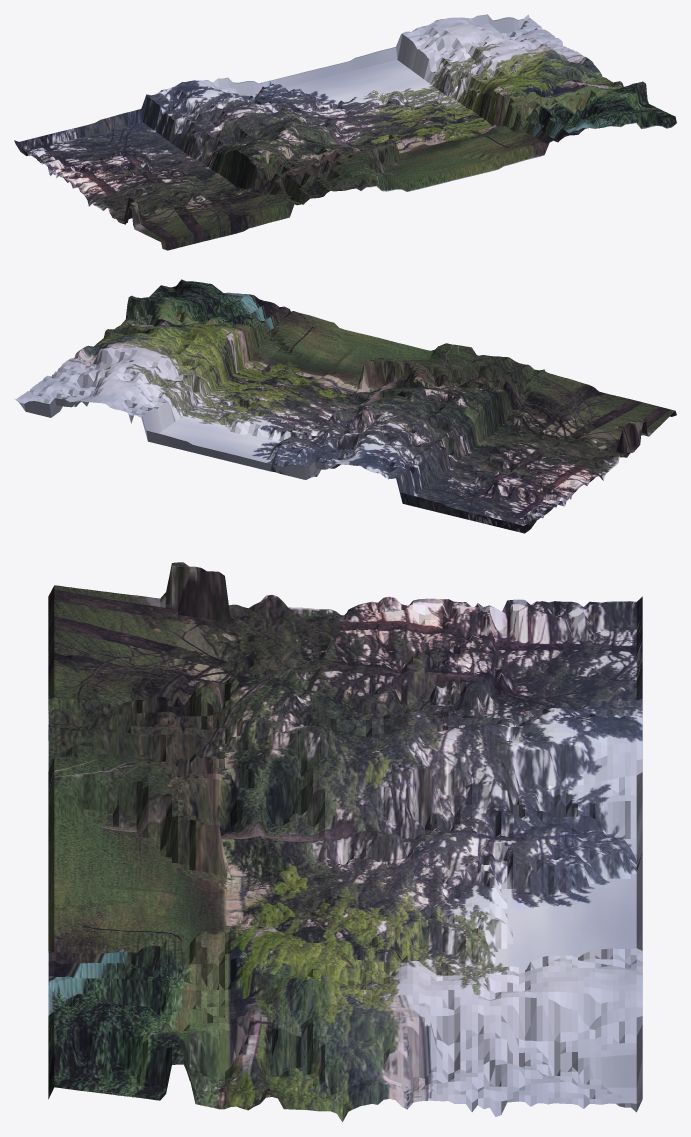
Rendered from Parc.fbx.
The picture shows the model from 3 angles, top to bottom: view 1: azimuth 30°, elevation 25°; view 2: azimuth 150°, elevation 25°; view 3: azimuth 270°, elevation 25°; orthographic projection. The views are drawn at different scales.
Visible parts, largest first — view 1: Relief_2_5D; view 2: Relief_2_5D; view 3: Relief_2_5D.
Part boxes in pixels (box(x1,y1,x2,y2)): Relief_2_5D: box(14, 14, 676, 250); Relief_2_5D: box(15, 279, 676, 533); Relief_2_5D: box(48, 562, 642, 1121).
Bounding box in the file's own units: 4 × 0.298 × 2.
Materials: 1 (1 with a texture image).
